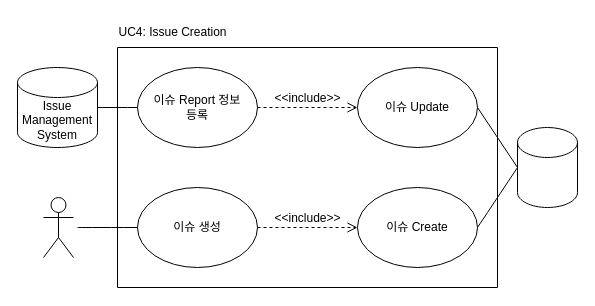
The diagram is 595 pixels wide and 306 high, and some of its shapes have lost their labels. The shapes that lost their labels are listed below. From the top down, each one's centre as x and y in pixels, then its label:
pixel 547 167: DB
pixel 58 227: Tester
